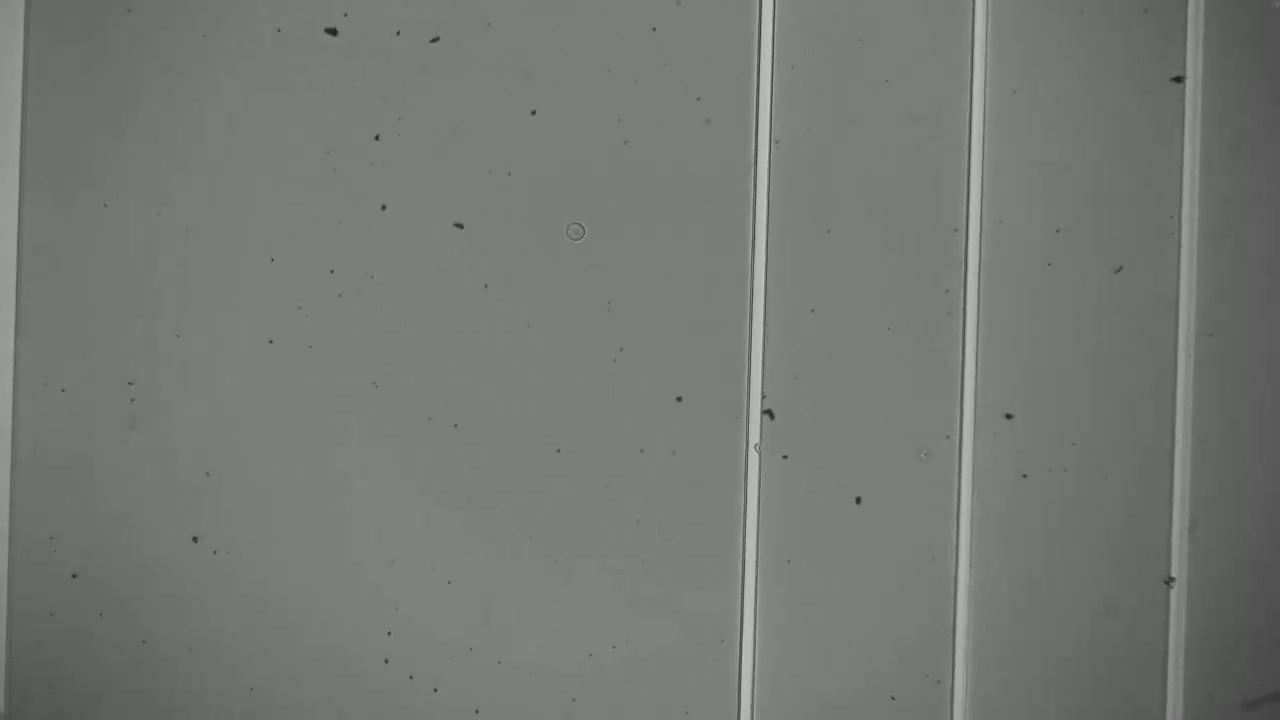stains_enbedded: (1158, 566, 1189, 597)
